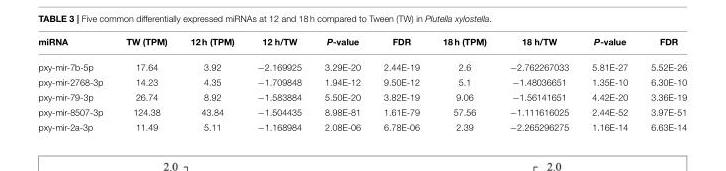table: (37, 37, 686, 131)
table column: (497, 37, 579, 131), (37, 37, 113, 131), (178, 37, 245, 131), (245, 37, 312, 131), (430, 37, 497, 131), (113, 37, 178, 131), (312, 37, 371, 131), (371, 37, 430, 131), (579, 37, 638, 131), (638, 37, 686, 131)
table column header: (37, 37, 686, 54)
table row: (37, 54, 686, 74), (37, 37, 686, 54), (37, 74, 686, 89), (37, 89, 686, 104), (37, 104, 686, 119), (37, 119, 686, 131)
